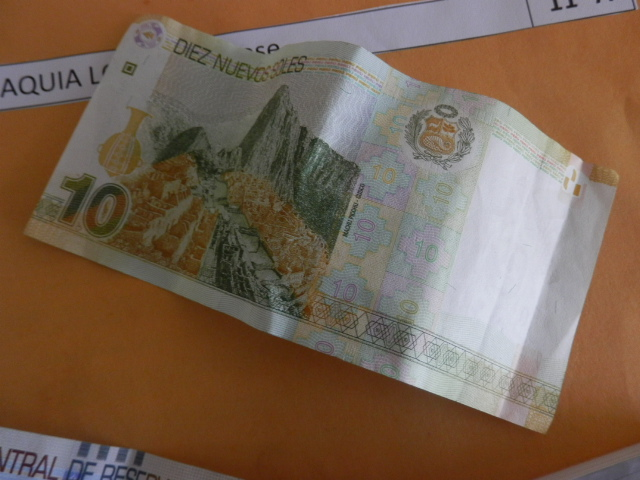B10: (43, 24, 613, 432)
